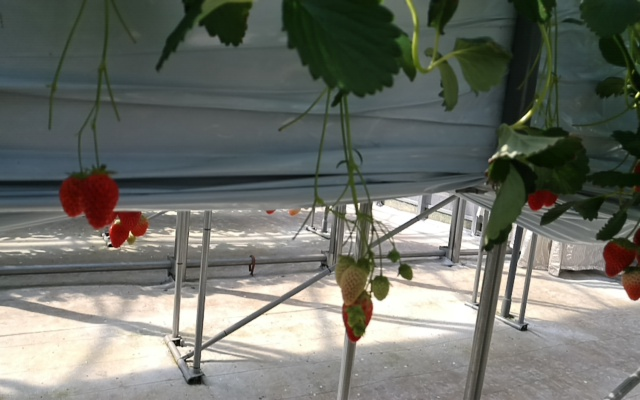GreenStrawberry: (340, 264, 366, 306), (335, 257, 354, 290), (372, 276, 391, 301), (350, 310, 363, 338), (399, 263, 413, 280)
MatureStrawberry: (84, 168, 120, 230), (527, 152, 564, 212), (339, 292, 374, 342), (57, 171, 90, 218), (601, 236, 635, 278), (621, 266, 640, 303), (115, 207, 140, 231), (111, 221, 130, 249)
